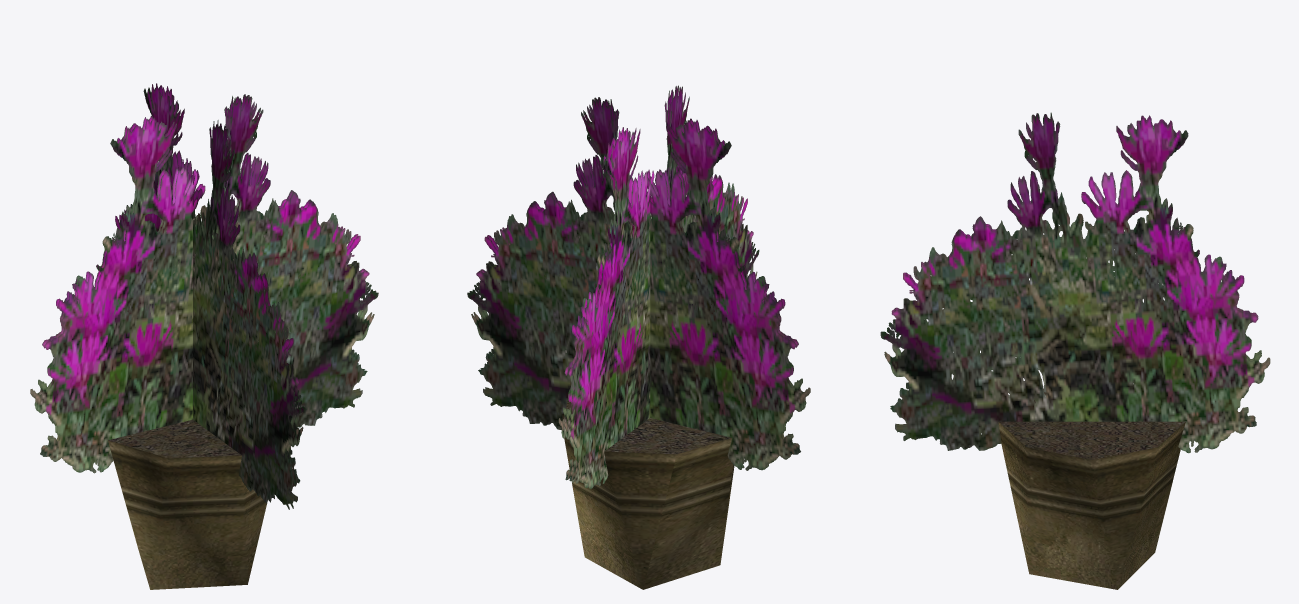
File: frn_all_potted_plants_sml_s02_l1.fbx
The picture shows the model from 3 angles, left to right: view 1: azimuth 30°, elevation 25°; view 2: azimuth 150°, elevation 25°; view 3: azimuth 270°, elevation 25°; orthographic projection. The views are drawn at different scales.
Parts seen in each view (by area): view 1: mesh_node; view 2: mesh_node; view 3: mesh_node.
Boxes of the visible parts, <box> form: mesh_node: <box>30,83,378,589</box>; mesh_node: <box>467,85,810,589</box>; mesh_node: <box>880,112,1270,589</box>.
Bounding box in the file's own units: 1.26 × 1.51 × 1.22.
3 materials, 3 textured.
